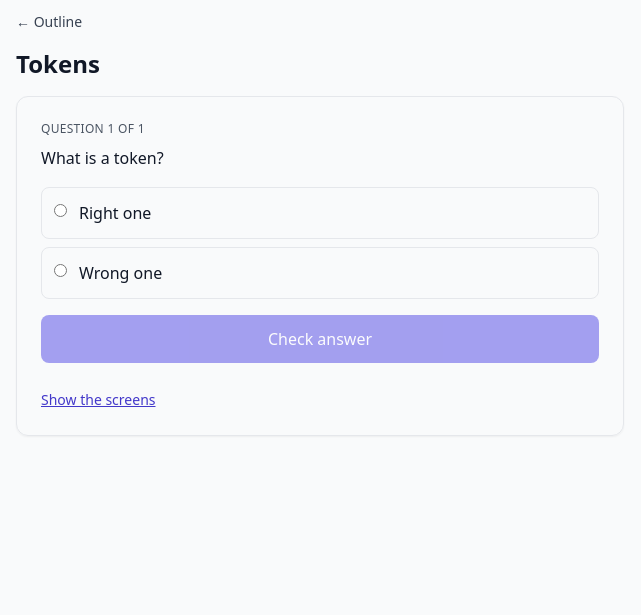
Test: LessonPage › open book: the screens can be shown while answering
What coordinates should you click on to do the following:
click the button "Show the screens"
I would click on:
 (98, 400)
Its box is [41,390,156,410].
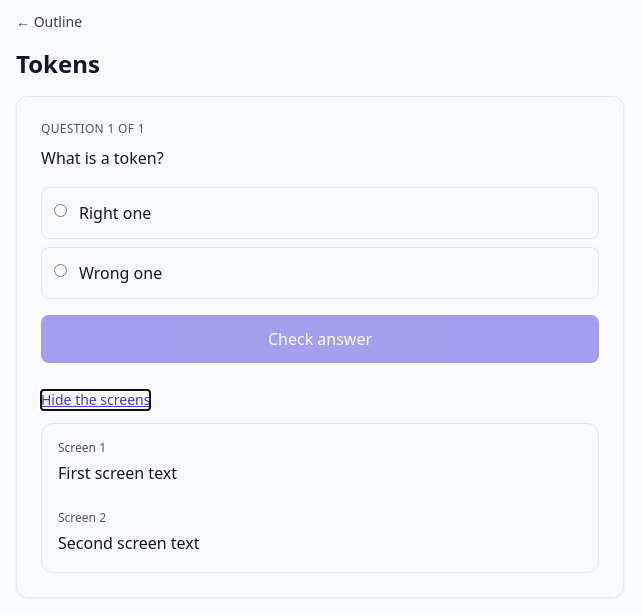
Result: the text "First screen text" is shown at [58,462,177,484]
Result: the button "Hide the screens" is expanded at [41,390,150,410]
